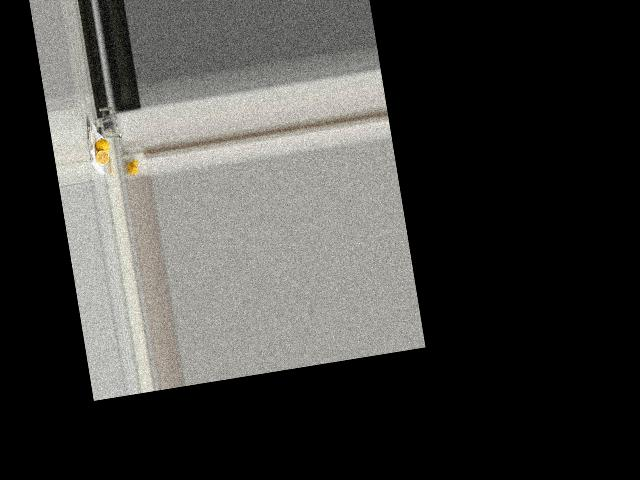lemon: (94, 136, 111, 156)
